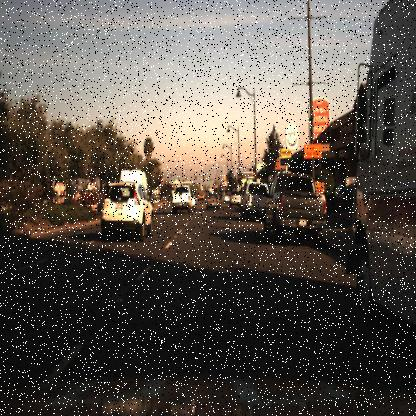car: (260, 170, 327, 245), (263, 172, 329, 246), (95, 180, 160, 242), (239, 178, 269, 226), (240, 178, 264, 223), (114, 164, 150, 189), (166, 186, 194, 216), (203, 192, 221, 212)
truck: (345, 0, 415, 338)
